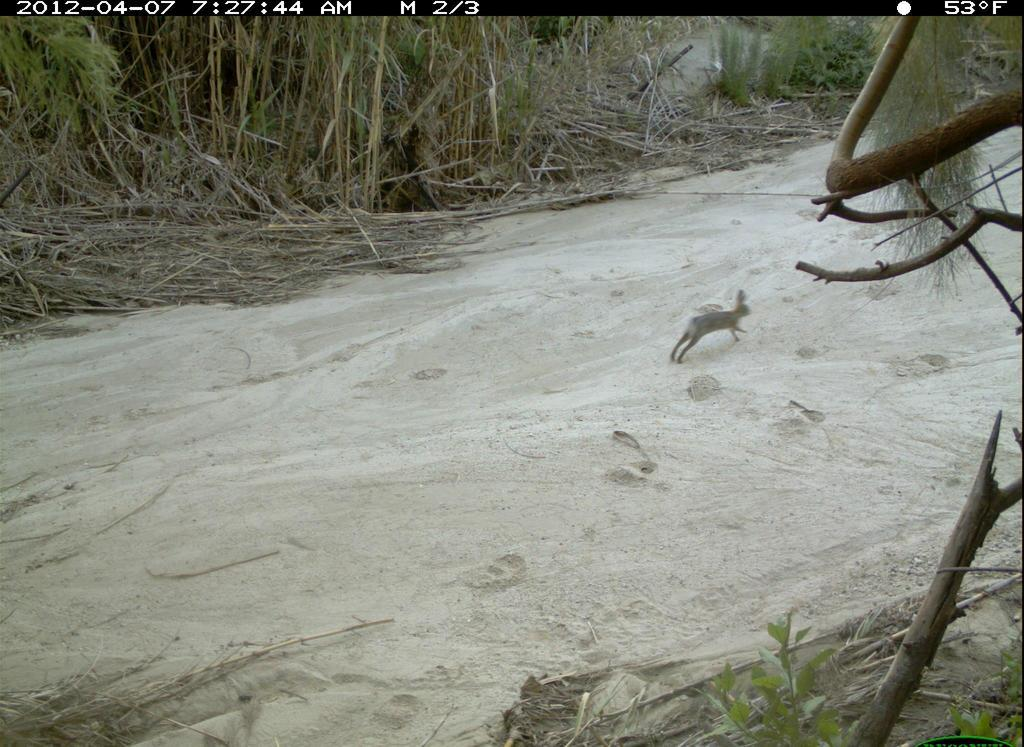rabbit: (664, 285, 757, 369)
